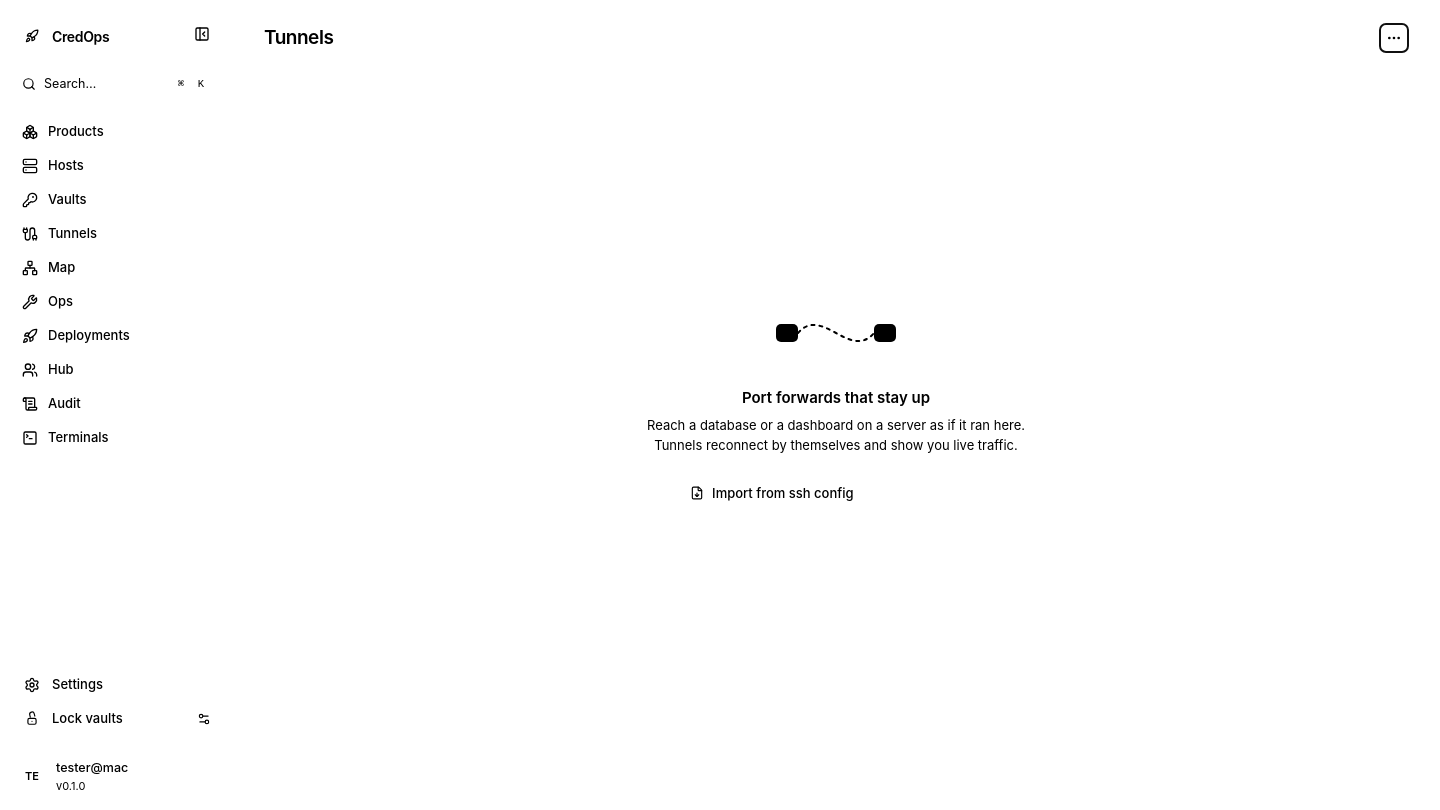
Scenario: tunnels page › the header menu offers Import tunnels… and Export tunnels…, empty or not
The width and height of the screenshot is (1440, 810).
Earlier steps of the test are not shown.
Click the button named "Import or export tunnels". click: (1394, 38)
box: [1380,24,1408,52]
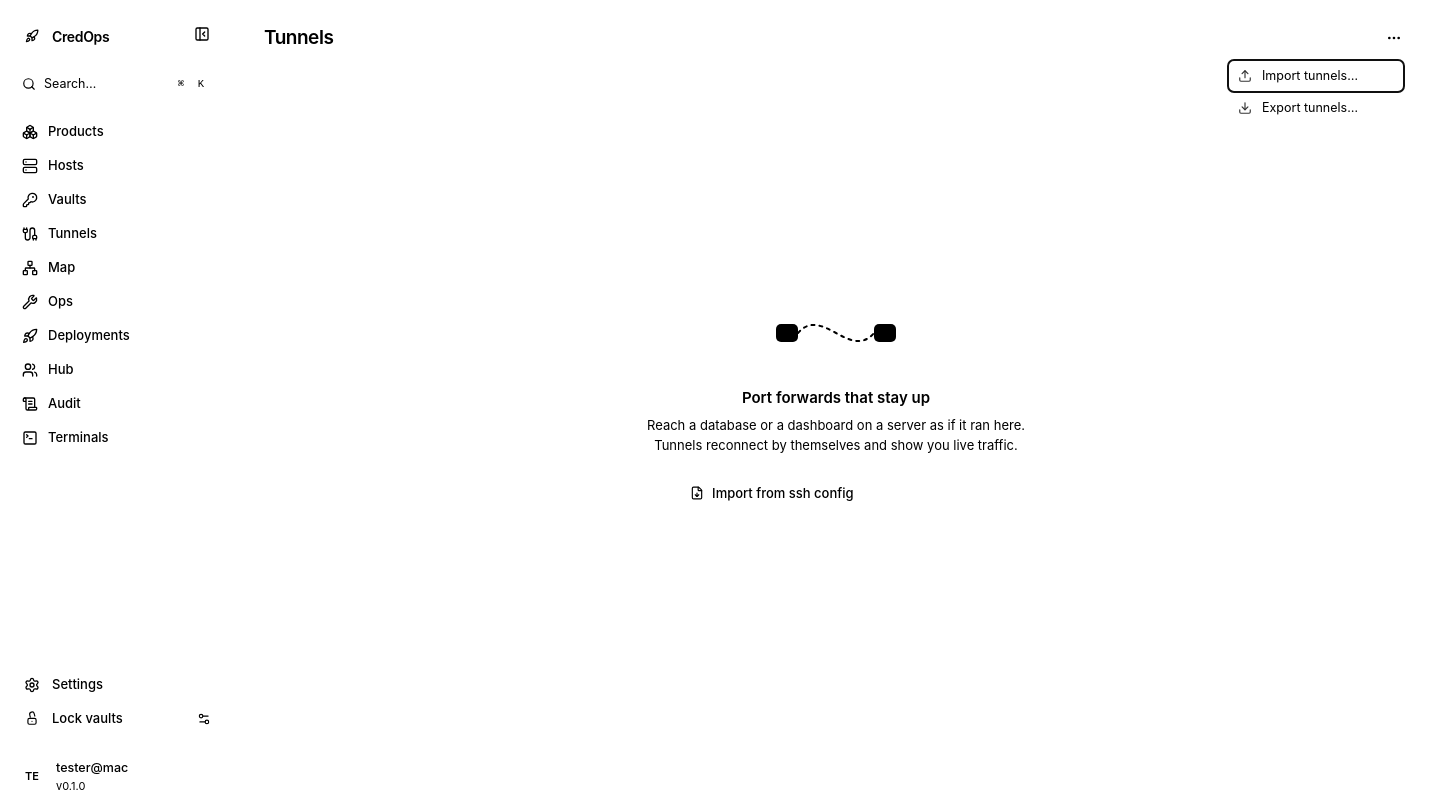
Result: the menu item "Import tunnels…" is shown at [1228,60,1404,92]
